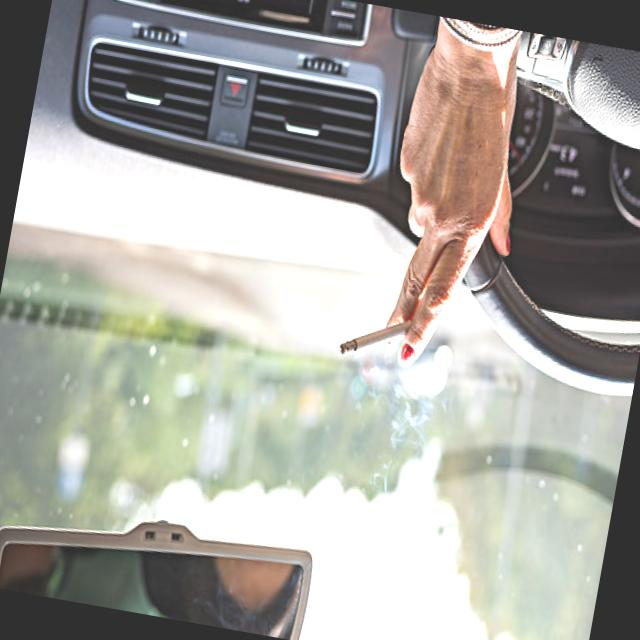smoke: (332, 310, 405, 372)
